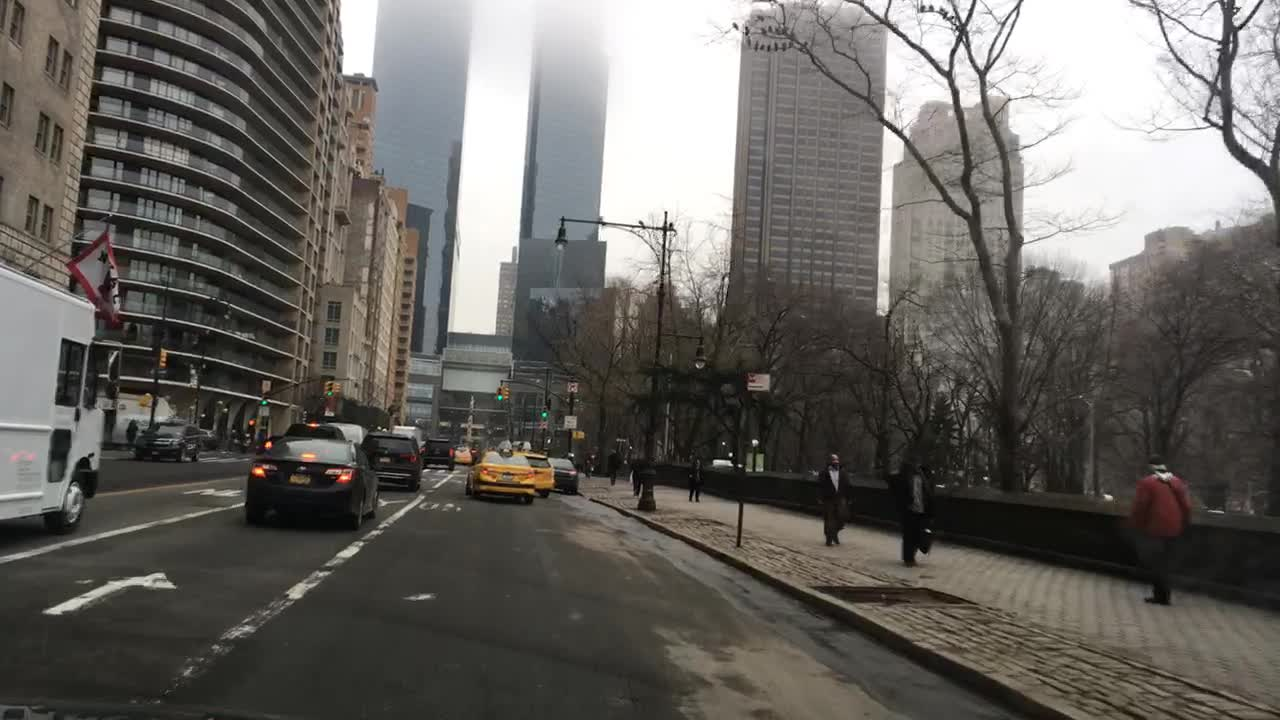bus: (0, 266, 108, 534), (99, 390, 181, 447)
car: (245, 431, 380, 528), (461, 438, 536, 505), (361, 432, 425, 493), (136, 422, 201, 466), (517, 438, 556, 493), (547, 454, 579, 494), (282, 418, 343, 438), (423, 437, 456, 473), (391, 423, 426, 452), (339, 422, 371, 443), (451, 445, 476, 465), (197, 427, 218, 450)
person: (1116, 452, 1198, 606), (891, 454, 942, 566), (813, 451, 859, 547), (686, 455, 707, 505), (626, 454, 646, 498), (605, 448, 625, 484), (125, 416, 140, 450)
traffic light: (137, 392, 154, 406), (158, 345, 168, 365), (570, 431, 588, 441), (494, 386, 504, 401), (325, 379, 333, 397), (334, 379, 342, 396), (506, 386, 512, 402), (540, 409, 548, 419), (259, 396, 267, 406)
traffic sign: (745, 370, 772, 392), (562, 413, 579, 428), (565, 379, 579, 393)
